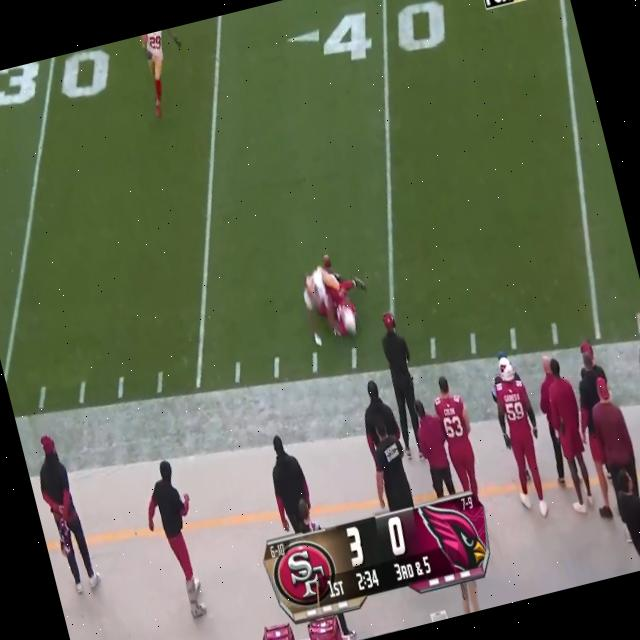Player: (314, 248, 372, 357), (134, 28, 188, 118), (292, 258, 370, 309)
